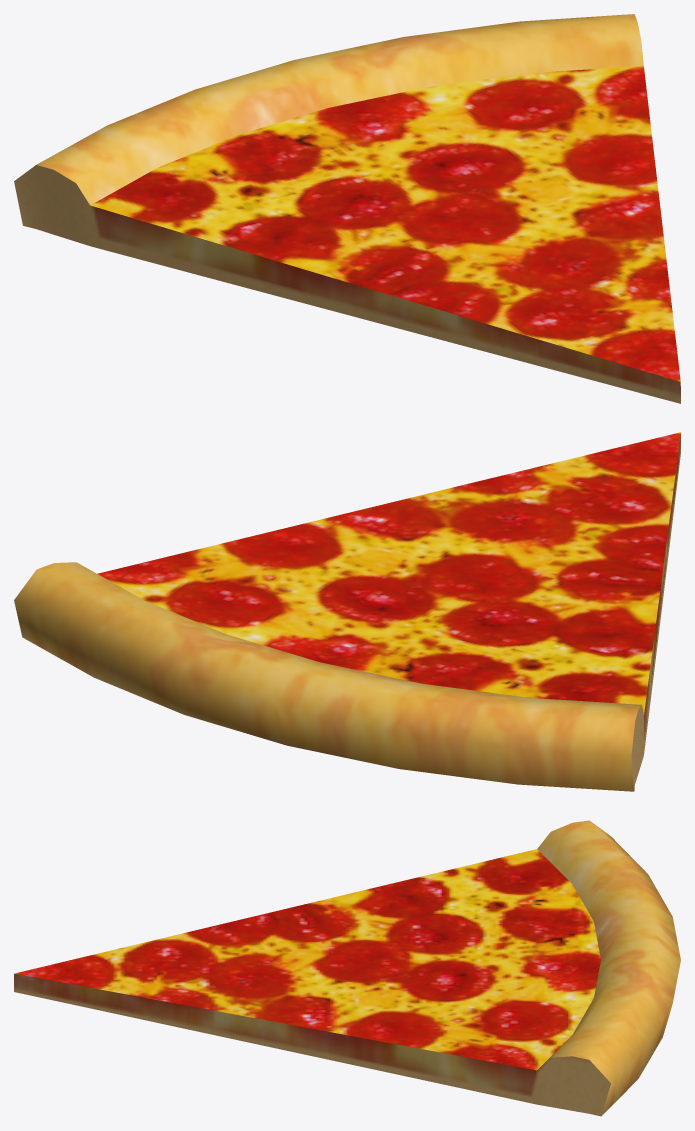
File: Pizza.obj
3 views of the same model, one above another, from view 1: azimuth 30°, elevation 25°; view 2: azimuth 150°, elevation 25°; view 3: azimuth 270°, elevation 25° (orthographic). The views are drawn at different scales.
Visible parts, largest first — view 1: Handle1; view 2: Handle1; view 3: Handle1.
Part boxes in pixels (x1,y1,x2,y2): Handle1: (14, 14, 680, 403); Handle1: (14, 432, 680, 791); Handle1: (14, 820, 680, 1116).
Size of the model in its own units: 1.14 by 0.1239 by 1.28.
